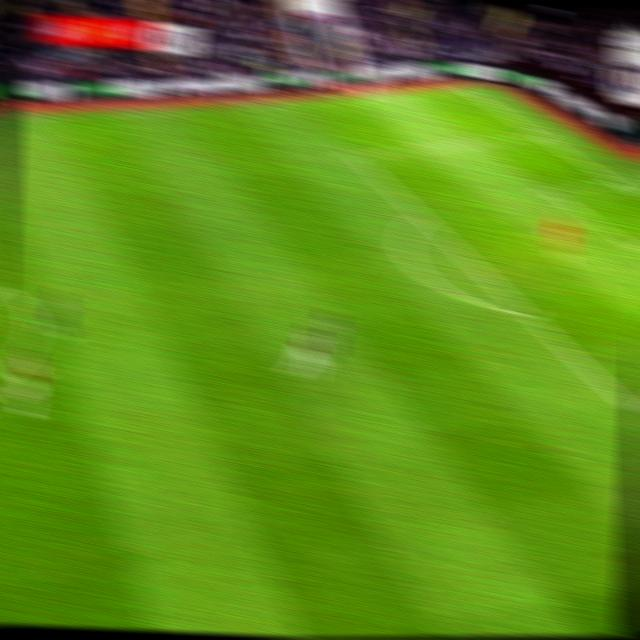bigarea_top_inner: (342, 143, 368, 166)
bigarea_top_outter: (527, 124, 551, 144)
bottom_arc_area_intersection: (514, 303, 542, 326)
corner: (448, 78, 477, 97)
smallarea_top_inner: (537, 181, 565, 199)
smallarea_top_outter: (602, 171, 630, 192)
top_arc_area_intersection: (408, 205, 436, 225)
